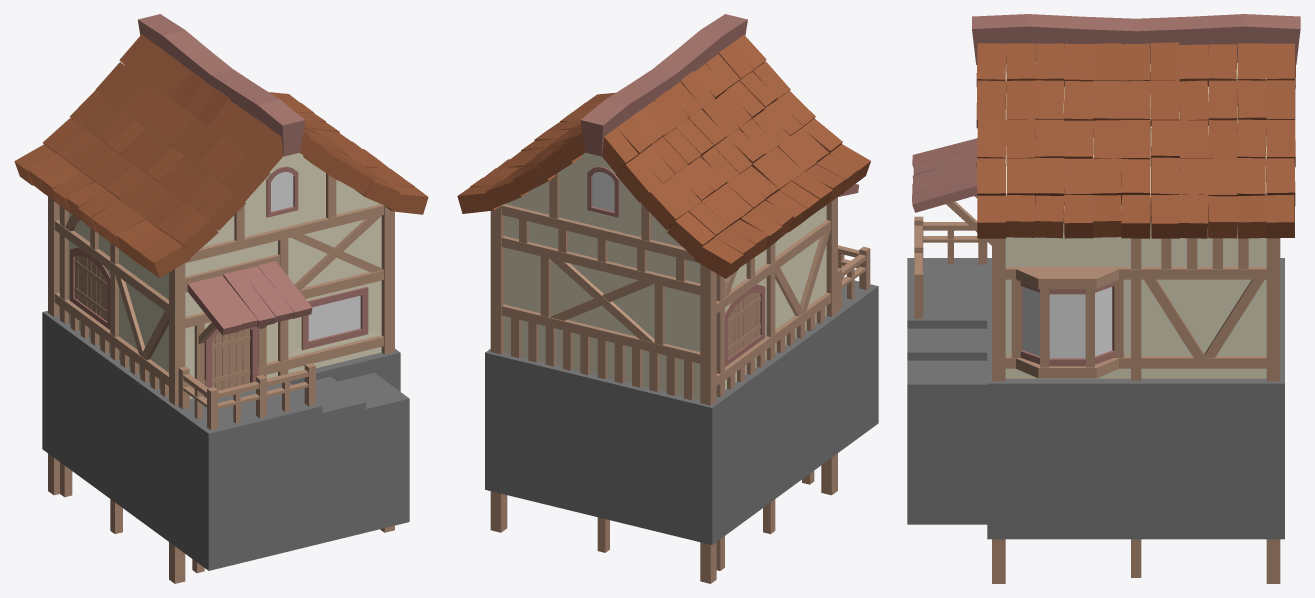
File: fang06_4.fbx
3 renders of one model, left to right at view 1: azimuth 30°, elevation 25°; view 2: azimuth 150°, elevation 25°; view 3: azimuth 270°, elevation 25°, orthographic. The views are drawn at different scales.
Parts seen in each view (by area): view 1: diban, fangding.001, zhuzi, fang06, menyan, fangyan, chuanghu, boli, langan.002, men.001, langan, chuangmen (+2 smaller); view 2: diban, fangding.001, zhuzi, fang06, fangyan, chuanghu, chuangmen.001, langan.002, boli, chuangmen; view 3: diban, fangding.001, zhuzi, fang06, fangyan, boli, menyan, chuanghu, langan.002, langan.
Boxes of the visible parts, bbox=[...] form: diban: bbox=[42, 311, 409, 570]; fangding.001: bbox=[14, 34, 428, 278]; zhuzi: bbox=[48, 173, 394, 583]; fang06: bbox=[59, 153, 381, 398]; menyan: bbox=[187, 261, 312, 335]; fangyan: bbox=[138, 14, 305, 156]; chuanghu: bbox=[70, 166, 368, 397]; boli: bbox=[271, 172, 360, 340]; langan.002: bbox=[178, 363, 315, 430]; men.001: bbox=[212, 328, 250, 390]; langan: bbox=[183, 369, 308, 398]; chuangmen: bbox=[74, 255, 91, 310]; diban: bbox=[485, 280, 878, 544]; fangding.001: bbox=[457, 35, 870, 278]; zhuzi: bbox=[490, 172, 837, 583]; fang06: bbox=[504, 152, 826, 399]; fangyan: bbox=[580, 14, 747, 156]; chuanghu: bbox=[587, 166, 765, 366]; chuangmen.001: bbox=[743, 292, 760, 346]; langan.002: bbox=[838, 246, 870, 310]; boli: bbox=[592, 172, 614, 211]; chuangmen: bbox=[727, 298, 743, 358]; diban: bbox=[907, 258, 1284, 539]; fangding.001: bbox=[976, 42, 1295, 238]; zhuzi: bbox=[992, 209, 1280, 583]; fang06: bbox=[1005, 63, 1266, 378]; fangyan: bbox=[972, 14, 1300, 64]; boli: bbox=[1022, 287, 1112, 358]; menyan: bbox=[912, 138, 977, 212]; chuanghu: bbox=[1020, 281, 1114, 366]; langan.002: bbox=[914, 216, 987, 318]; langan: bbox=[914, 222, 974, 270].
Size of the model in its own units: 630 by 969 by 687.
